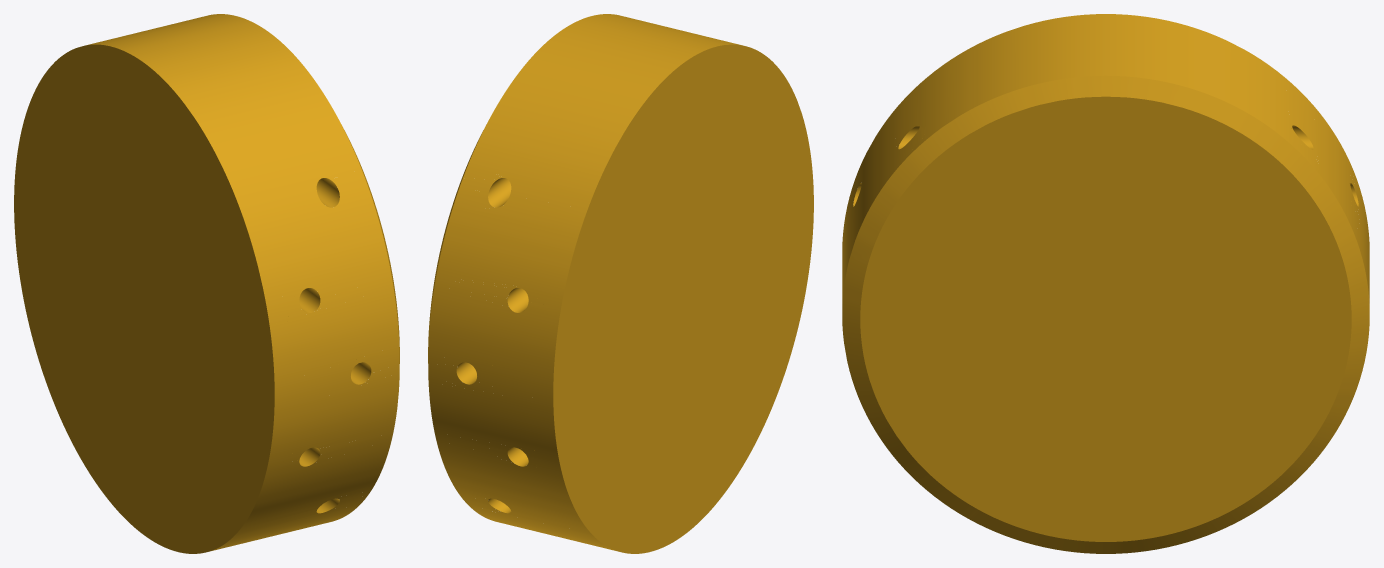
Rendered from takoz-rammer-g80-top-buffer-02.glb.
3 renders of one model, left to right at view 1: azimuth 30°, elevation 25°; view 2: azimuth 150°, elevation 25°; view 3: azimuth 270°, elevation 25°, orthographic.
Visible parts, largest first — view 1: body; view 2: body; view 3: body.
Boxes of the visible parts, box(x1,y1,x2,y2) form: body: box(14, 14, 399, 553); body: box(428, 14, 813, 553); body: box(842, 14, 1369, 553).
Bounding box in the file's own units: 0.104 × 0.35 × 0.35.
